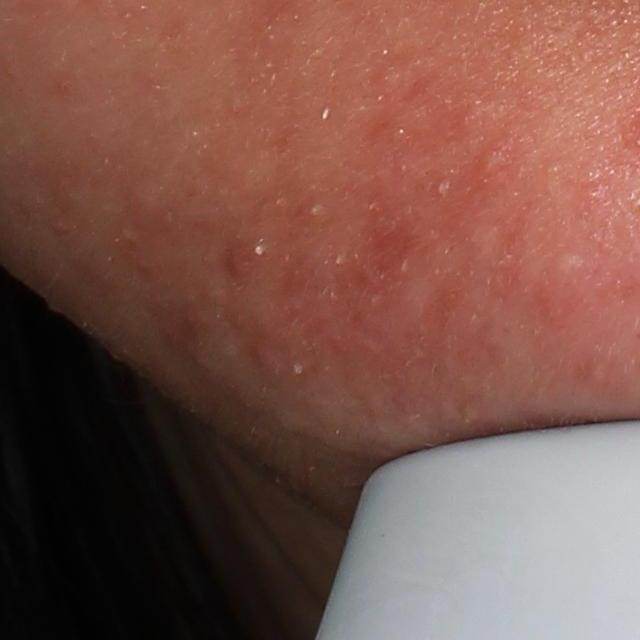comedo: (305, 204, 325, 217)
